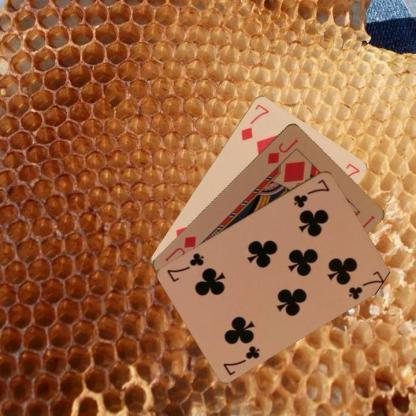7c: (290, 176, 332, 210), (221, 342, 261, 376)
7d: (238, 101, 270, 142)
Jd: (264, 136, 300, 166)
